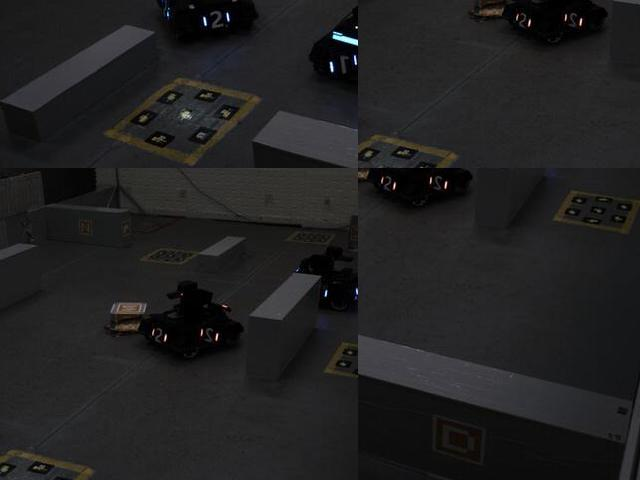armor: (196, 8, 235, 33), (329, 48, 357, 82), (560, 10, 591, 31), (196, 325, 227, 346), (425, 173, 456, 194), (511, 7, 535, 34), (147, 322, 171, 349), (376, 170, 400, 197)
